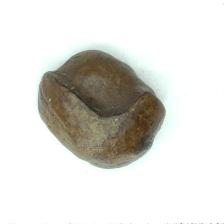NG: (45, 50, 156, 120)
